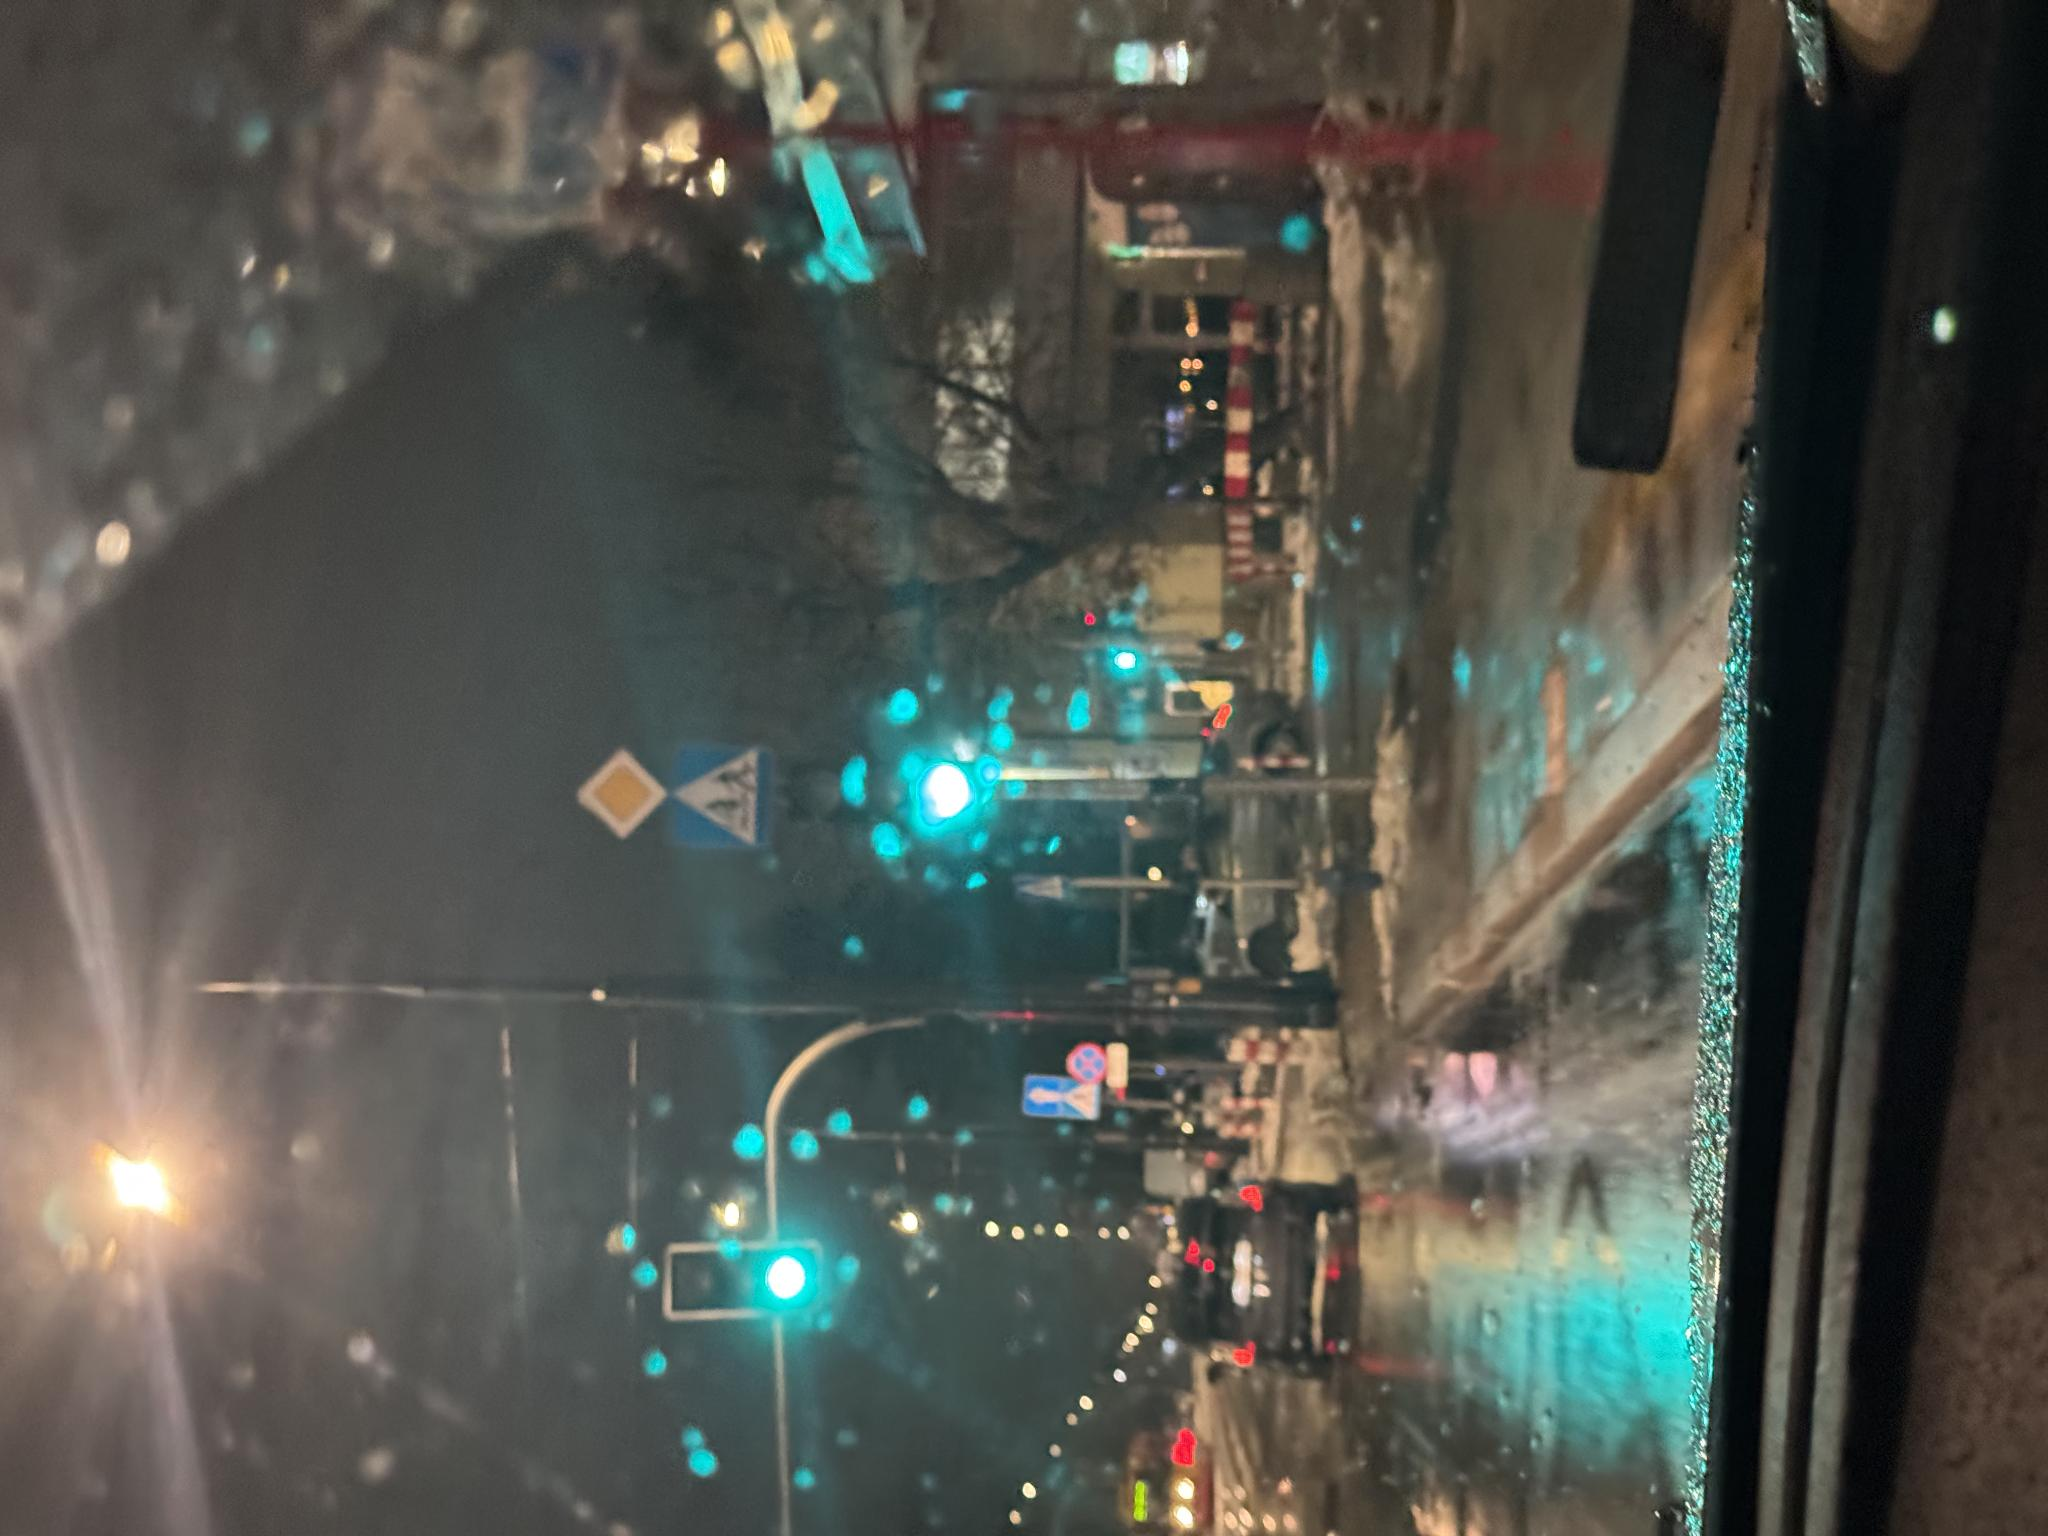information: (689, 668, 795, 774), (695, 576, 789, 668)
prohibitory: (448, 1063, 493, 1105)
